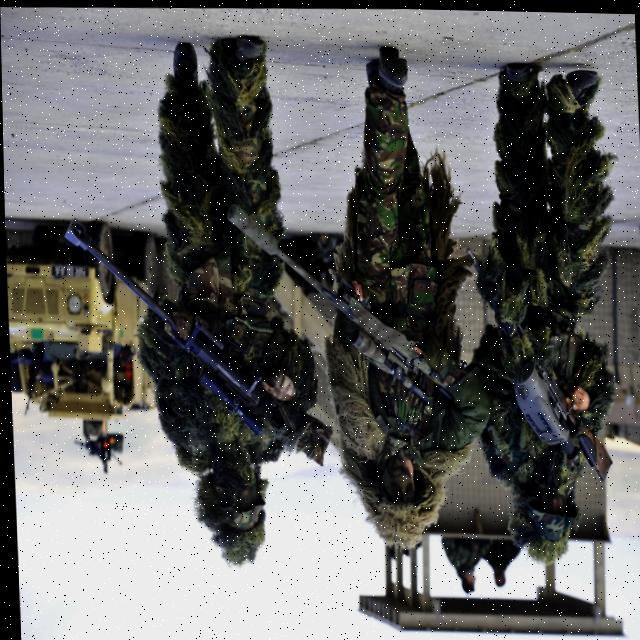firearm: (61, 208, 331, 469), (224, 196, 450, 405), (462, 240, 611, 483)
